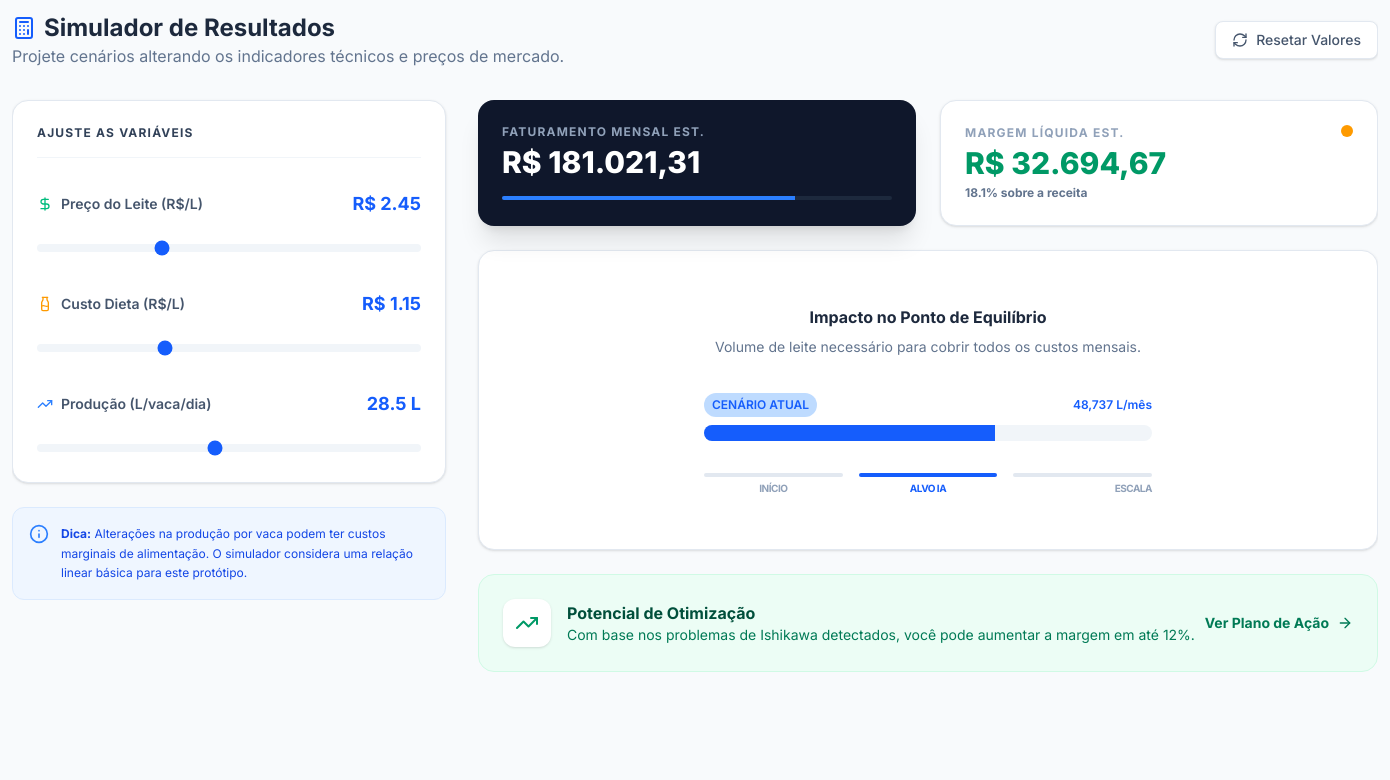
Test: SimulacaoPage - Cálculos Financeiros › deve conseguir repor (resetar) os valores iniciais
Altera o preço para provocar uma mudança
Set the slider below "2.45" to "4.00" at (352, 248), box [37,244,421,252]
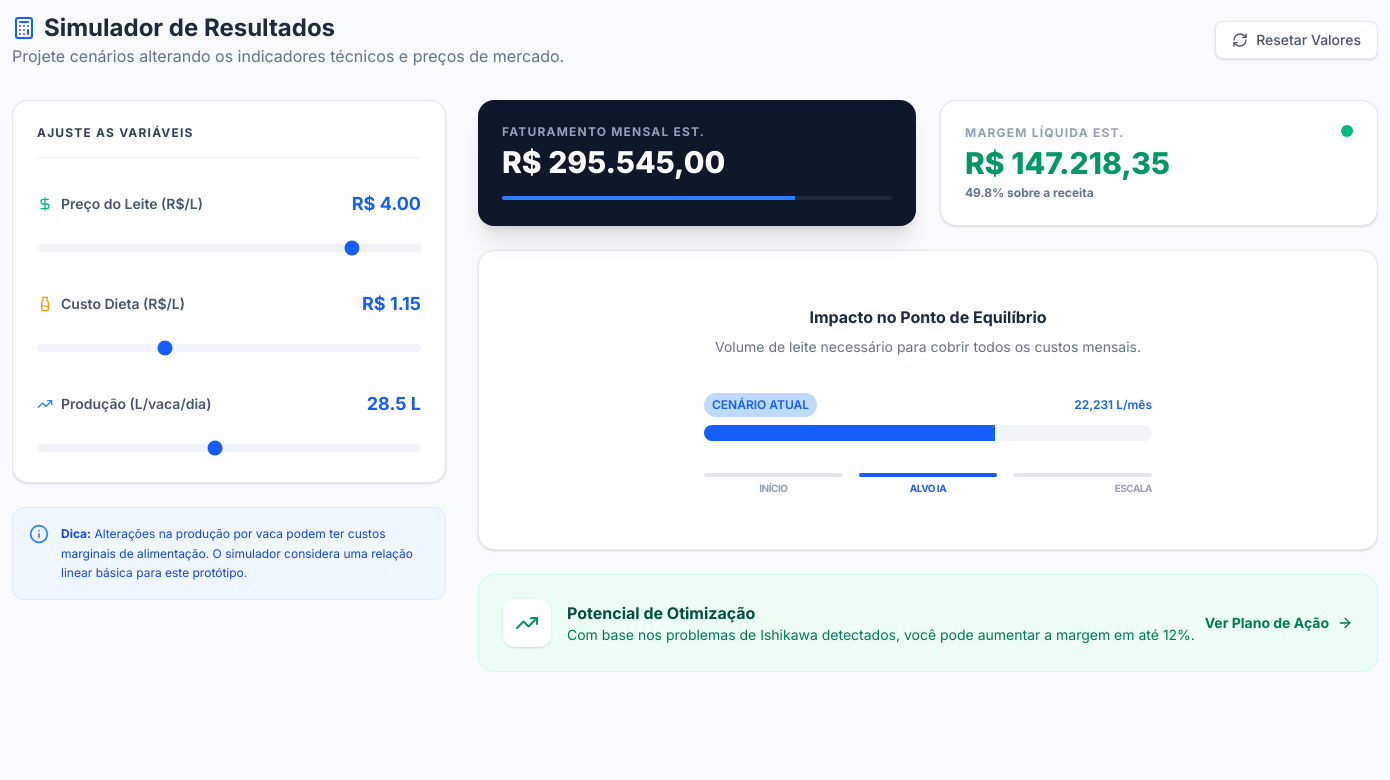
Clica no botão de Resetar
Click the button "Resetar Valores" at (1297, 40), box [1215,21,1378,59]
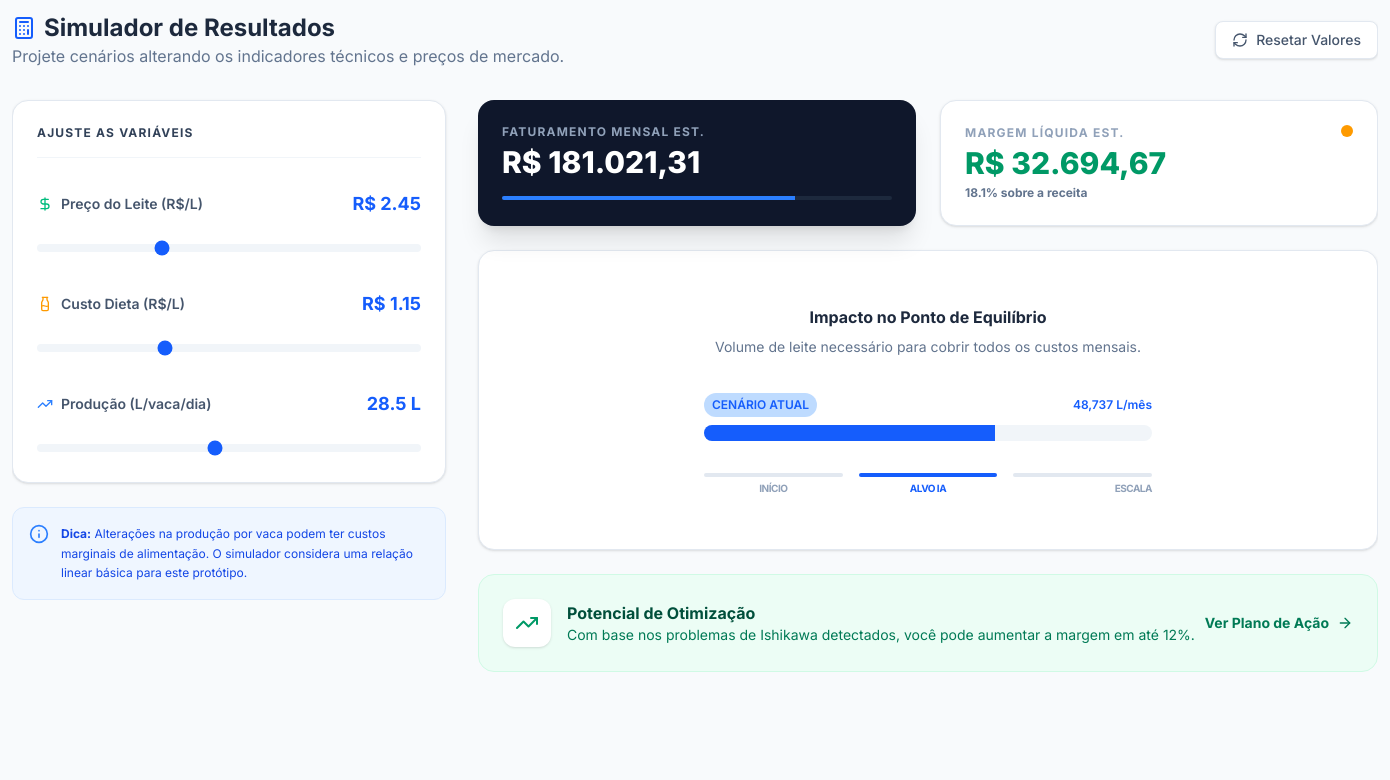
Result: the text "R$ 2.45" is shown at [352,190,421,218]
